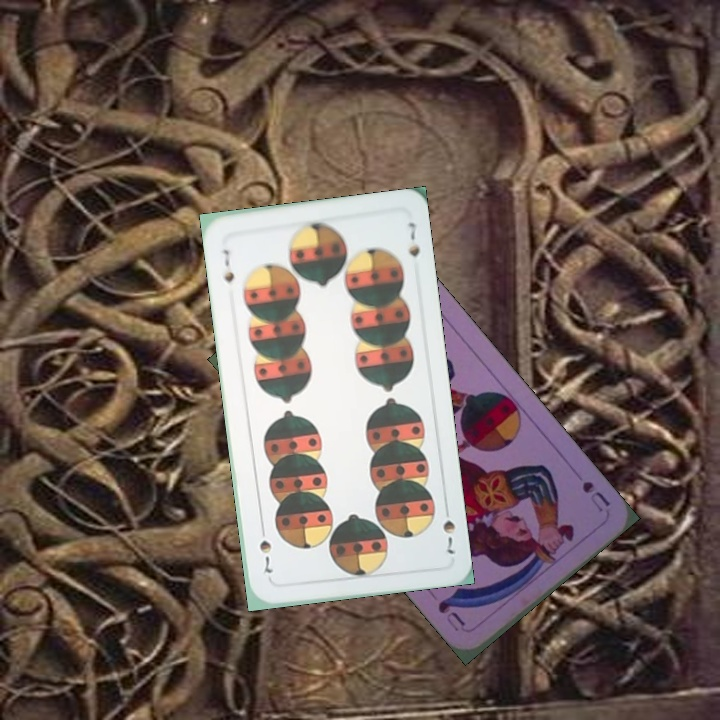S7: (439, 501, 458, 557), (219, 245, 237, 285)
SU: (578, 477, 613, 515)
